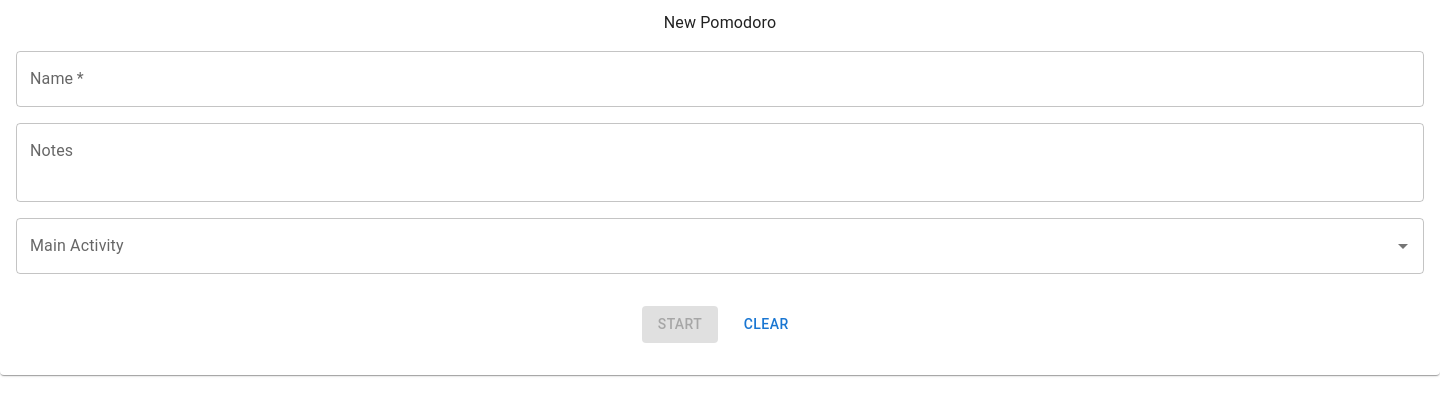
it: NewPomodoro › resets fields on clear
The image size is (1440, 394).
Type "Temporary" into the field labelled "Name *" at [720, 79], box [16, 51, 1424, 107]
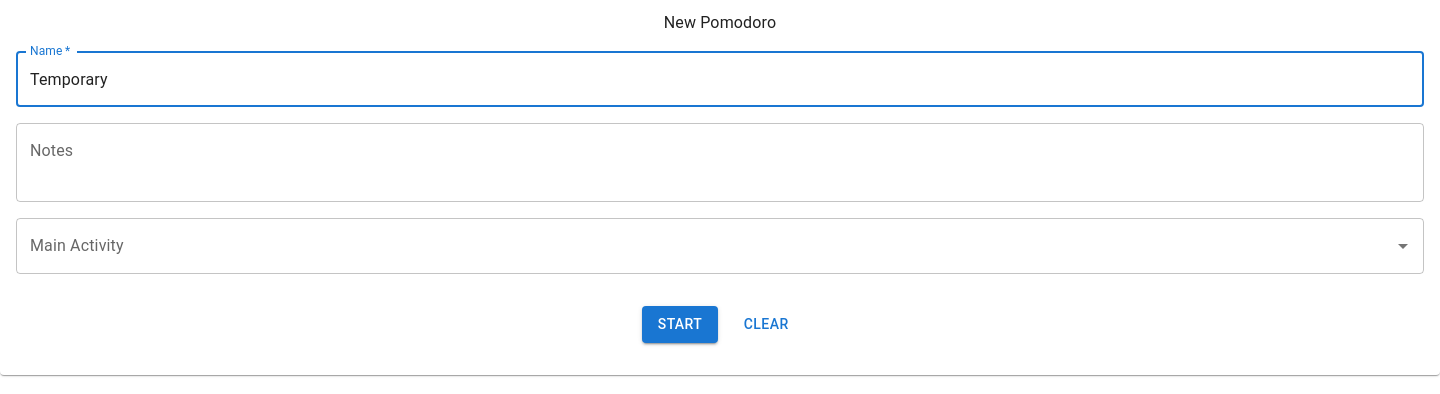
Click the button "Clear" at [766, 324], box [734, 306, 798, 342]
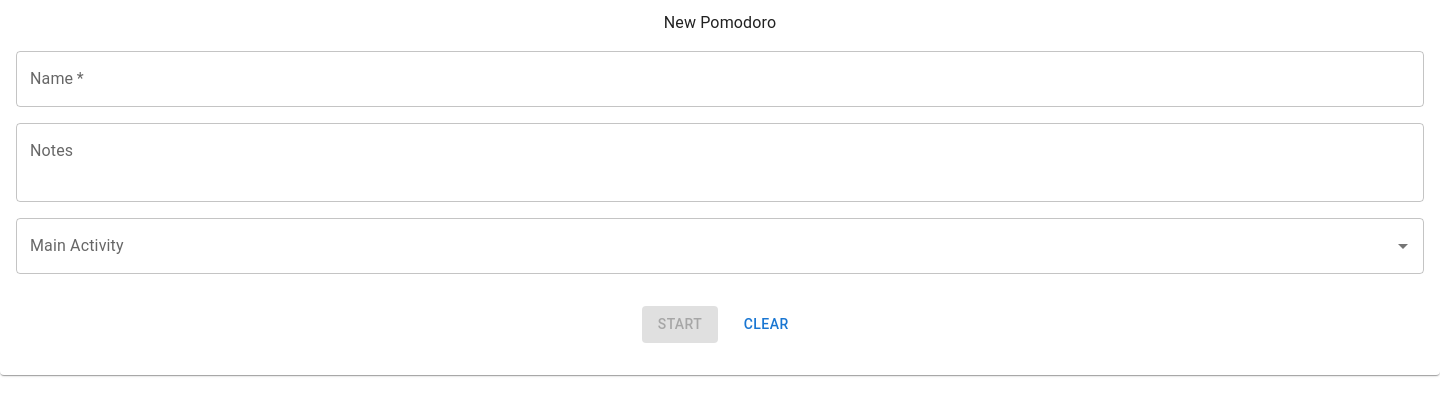
Expected: the field labelled "Name *" is empty, [16, 51, 1424, 107]
